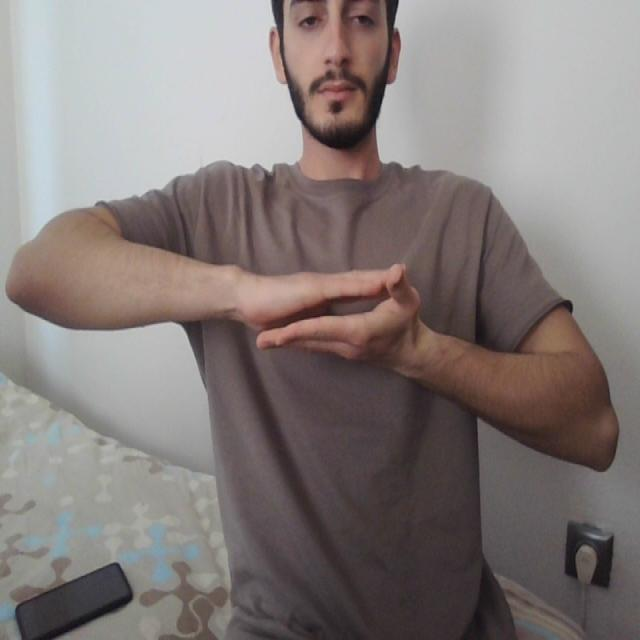Arkadas: (204, 247, 459, 393)
